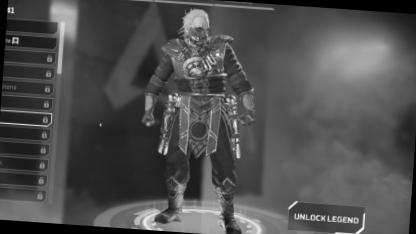Target: (157, 6, 250, 189)
